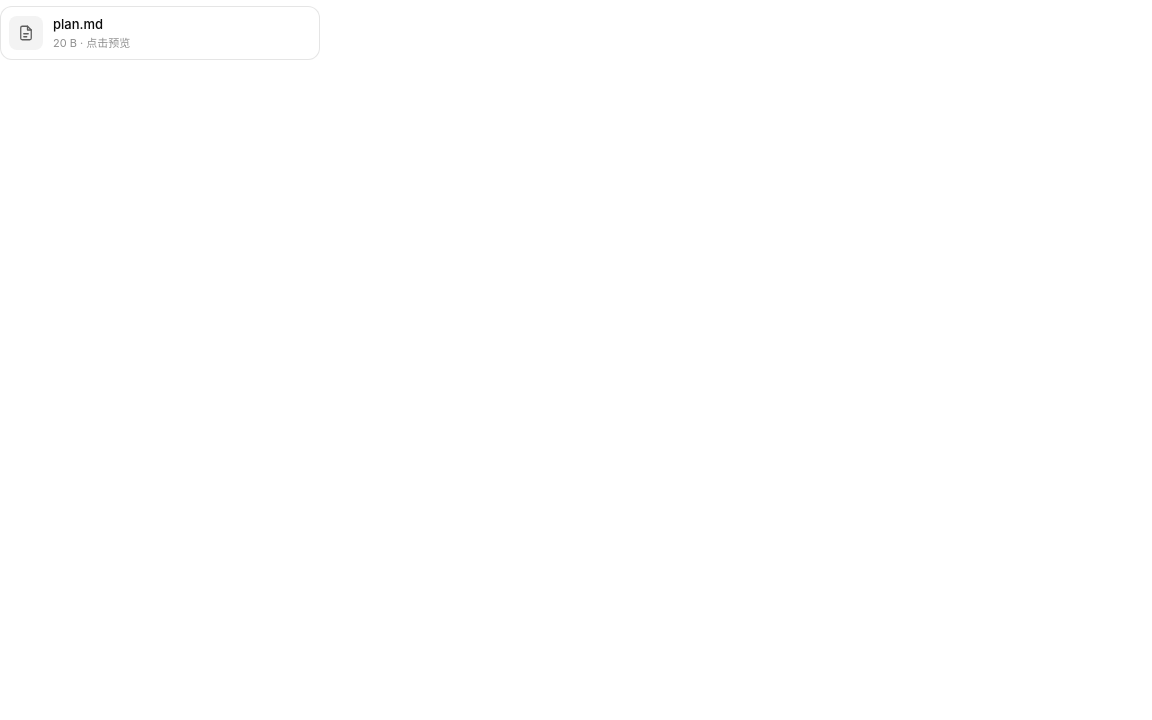
it: 文件预览 › 预览顶部能停到右侧栏：弹窗关掉交给 onDock；停靠时不是弹窗、不接管 Esc，能放大回弹窗
Later steps or results of the test are not shown.
Step 1. Click the button "预览 plan.md" → (26, 33), box [0, 6, 320, 60]
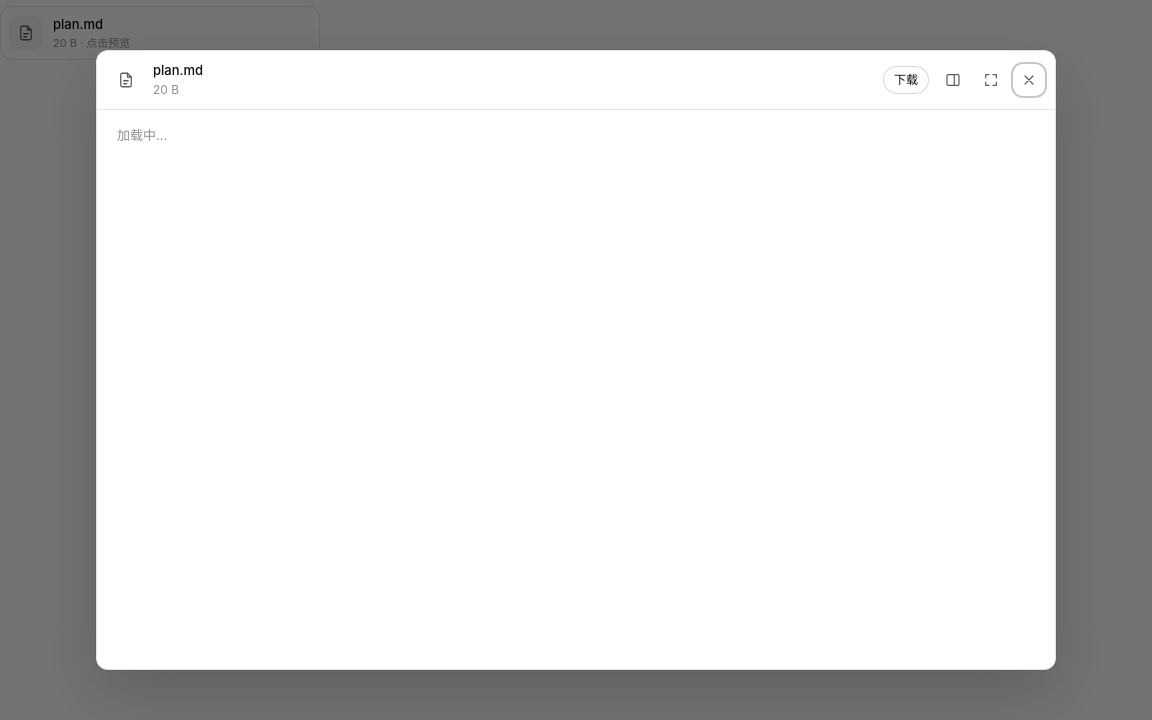
Expected: the dialog named "预览 plan.md" is shown
Step 2. Click the button named "在右侧栏打开" → (953, 80), box [939, 66, 967, 94]
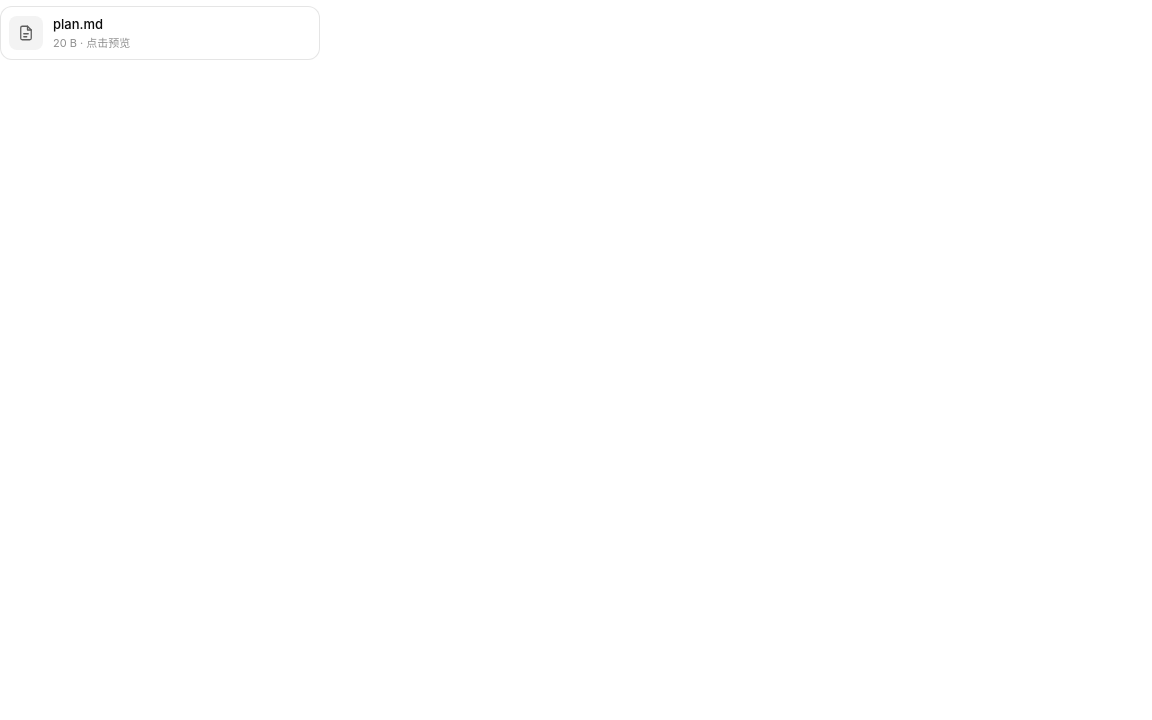
Expected: the dialog is gone
